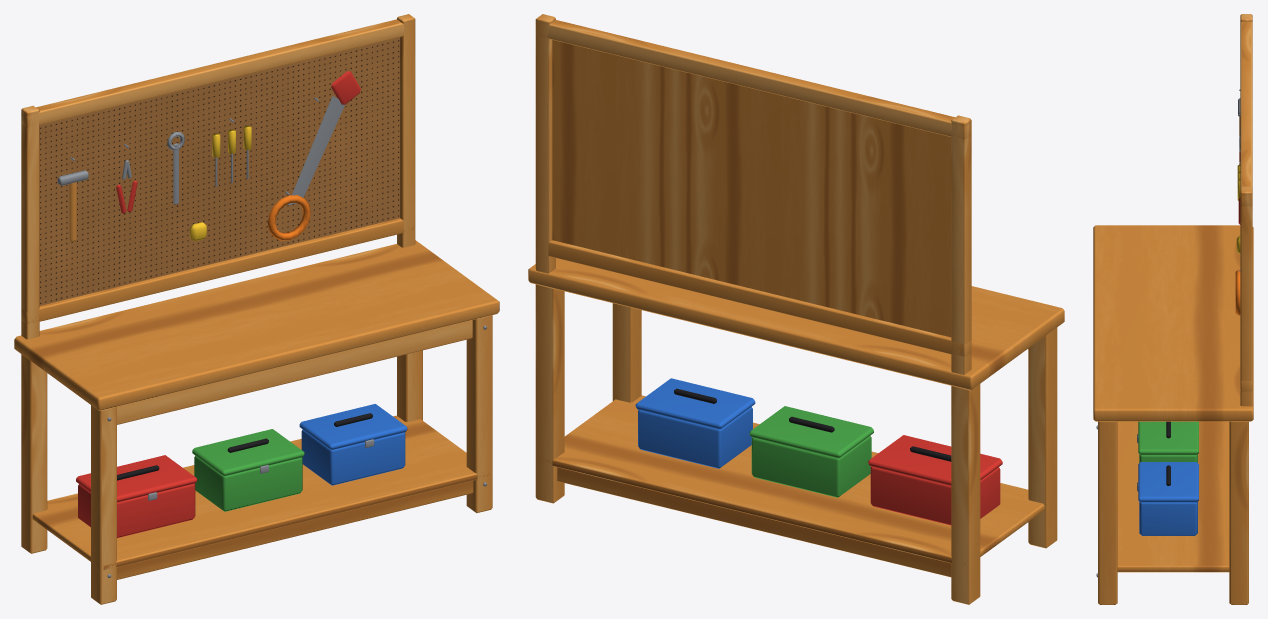
The model's file is workbench.glb.
The picture shows the model from 3 angles, left to right: view 1: azimuth 30°, elevation 25°; view 2: azimuth 150°, elevation 25°; view 3: azimuth 270°, elevation 25°; orthographic projection. The views are drawn at different scales.
Parts seen in each view (by area): view 1: model; view 2: model; view 3: model.
Boxes of the visible parts, x1,y1,x2,y2 form: model: (14,14,499,604); model: (528,14,1064,604); model: (1093,14,1253,604).
Bounding box in the file's own units: 1.8 × 1.87 × 0.66.
Materials: 9 (2 with a texture image).
